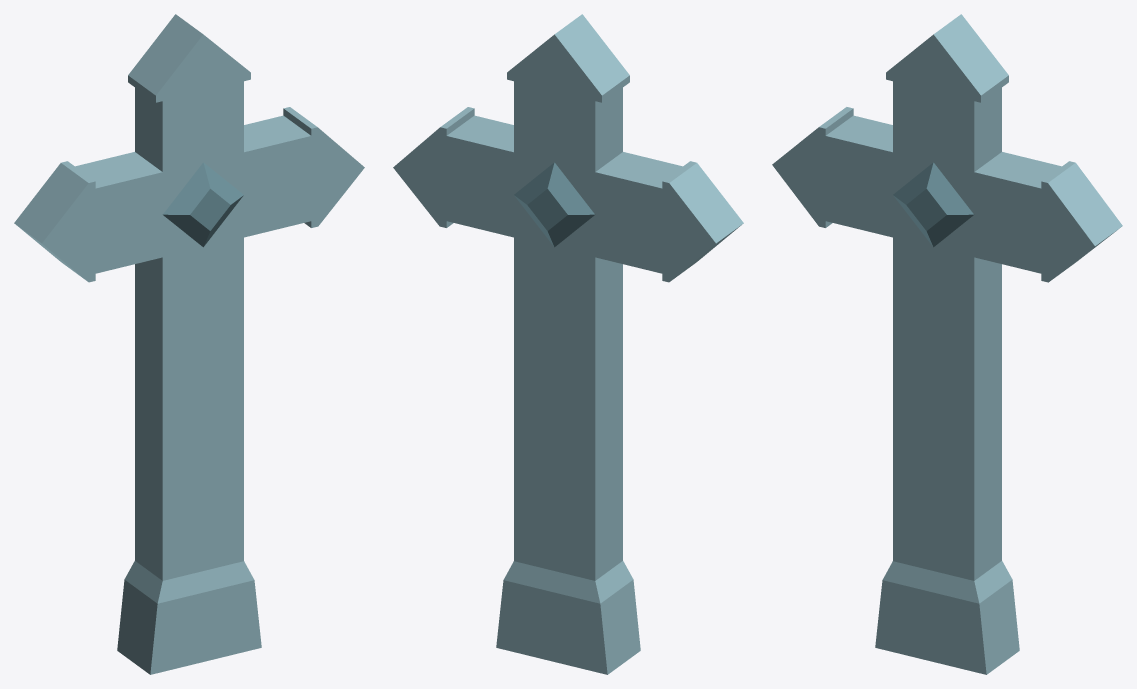
File: cross.obj
3 views of the same model, side by side, from view 1: azimuth 30°, elevation 25°; view 2: azimuth 150°, elevation 25°; view 3: azimuth 330°, elevation 25° (orthographic).
Parts seen in each view (by area): view 1: cross; view 2: cross; view 3: cross.
Part boxes in pixels (<box>): cross: <box>14,14,364,674</box>; cross: <box>393,14,743,674</box>; cross: <box>772,14,1122,674</box>.
Size of the model in its own units: 0.5355 by 0.99 by 0.12.
